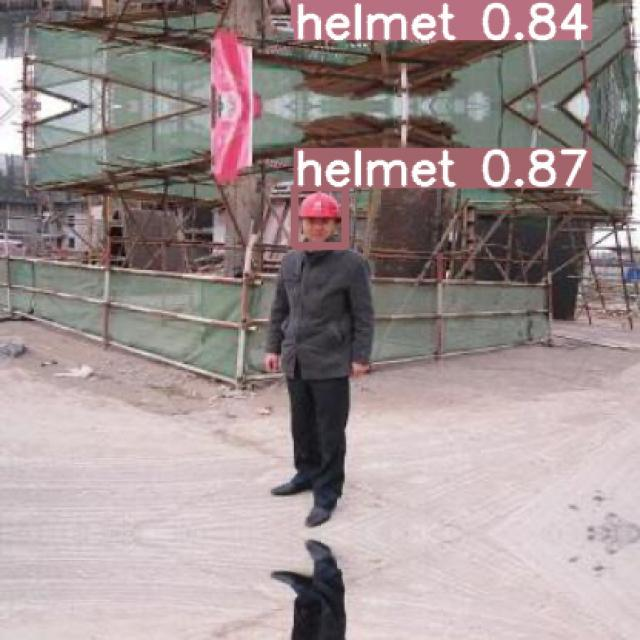Helmet: (297, 191, 341, 220)
